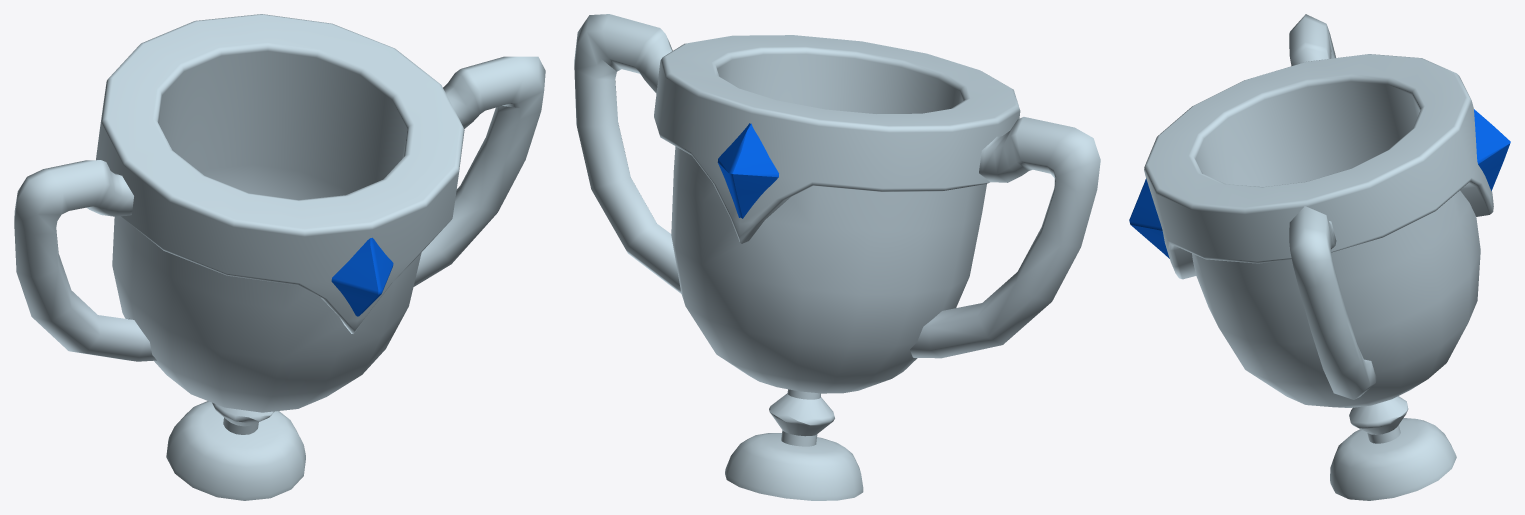
3 renders of one model, left to right at view 1: azimuth 30°, elevation 25°; view 2: azimuth 150°, elevation 25°; view 3: azimuth 270°, elevation 25°, orthographic. The views are drawn at different scales.
Parts seen in each view (by area): view 1: model_1.145; view 2: model_1.145; view 3: model_1.145.
Boxes of the visible parts, x1,y1,x2,y2 form: model_1.145: [14, 14, 545, 500]; model_1.145: [574, 14, 1100, 500]; model_1.145: [1129, 14, 1510, 500].
Bounding box in the file's own units: 5.53 × 4.23 × 3.78.
